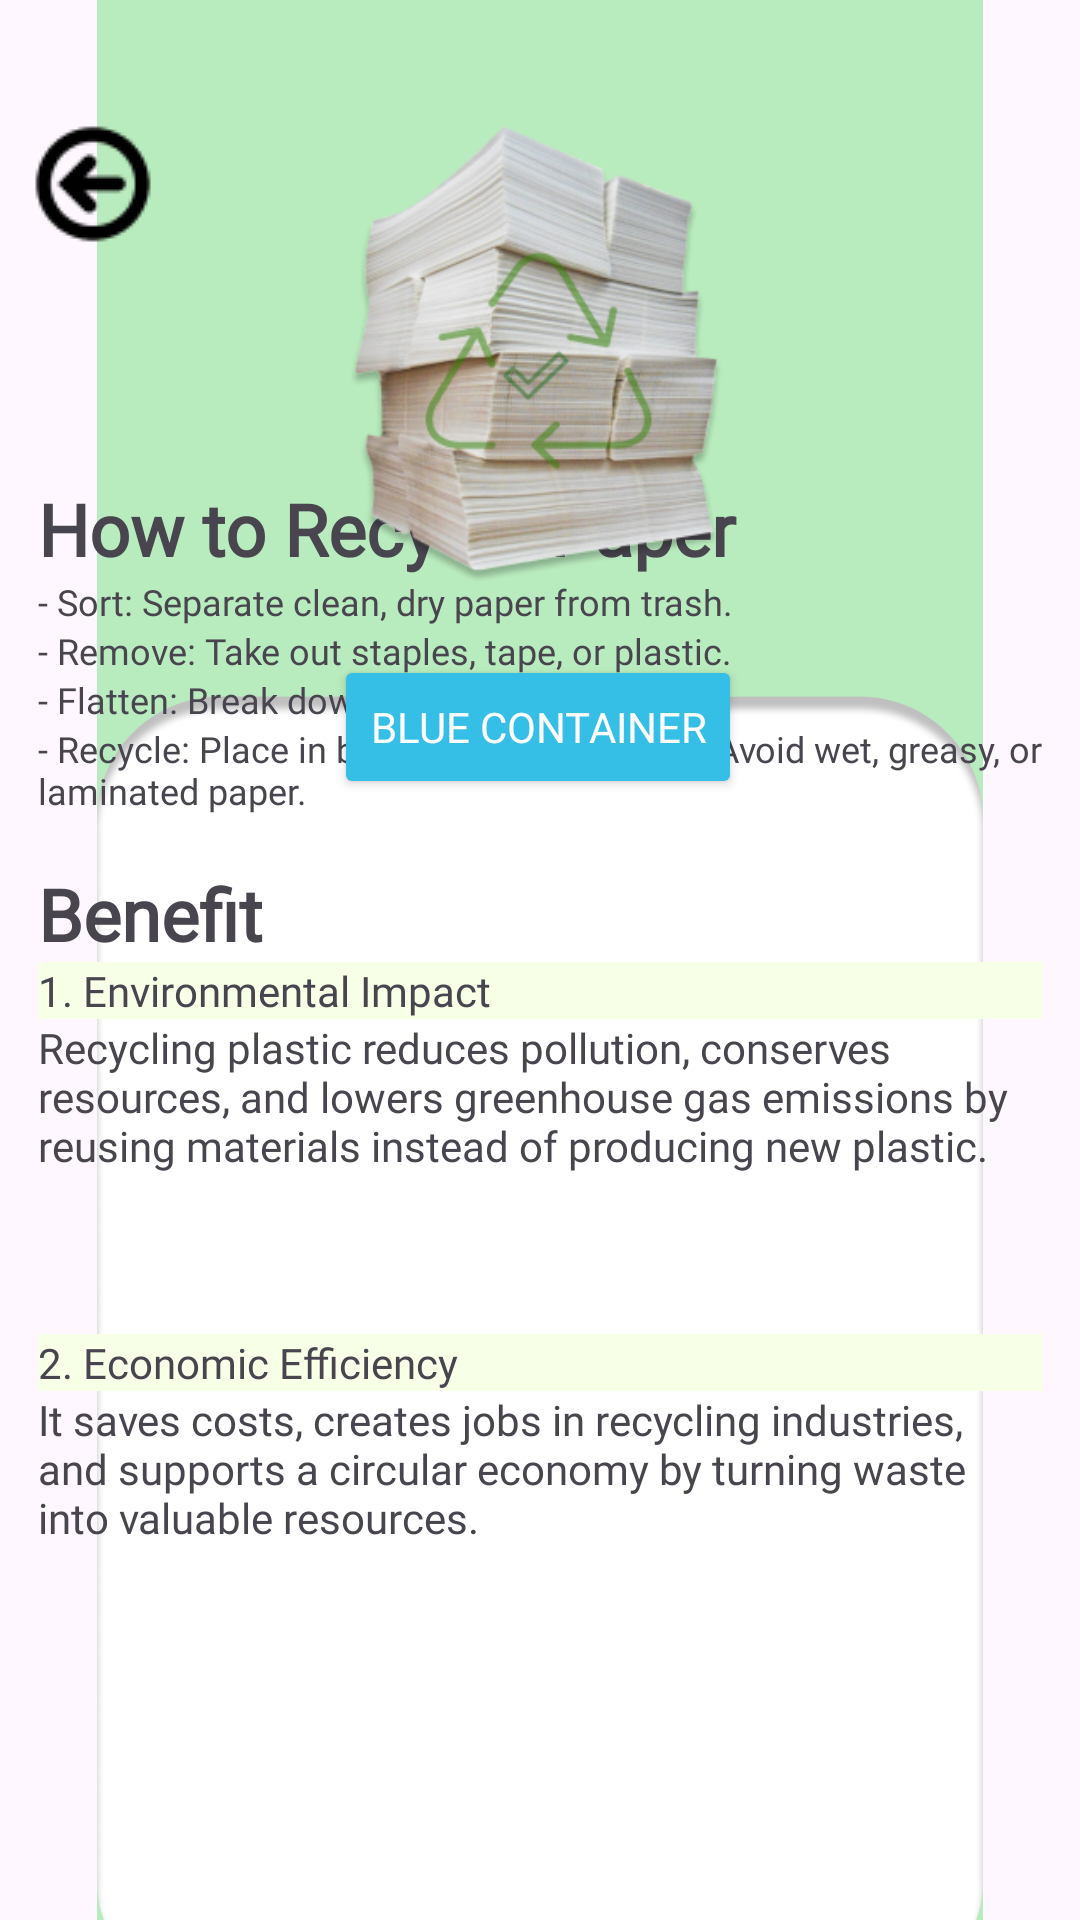

Point at icon controls on the screen. Image size 1080 × 1920, points as (x,y).
back: (75,184)
